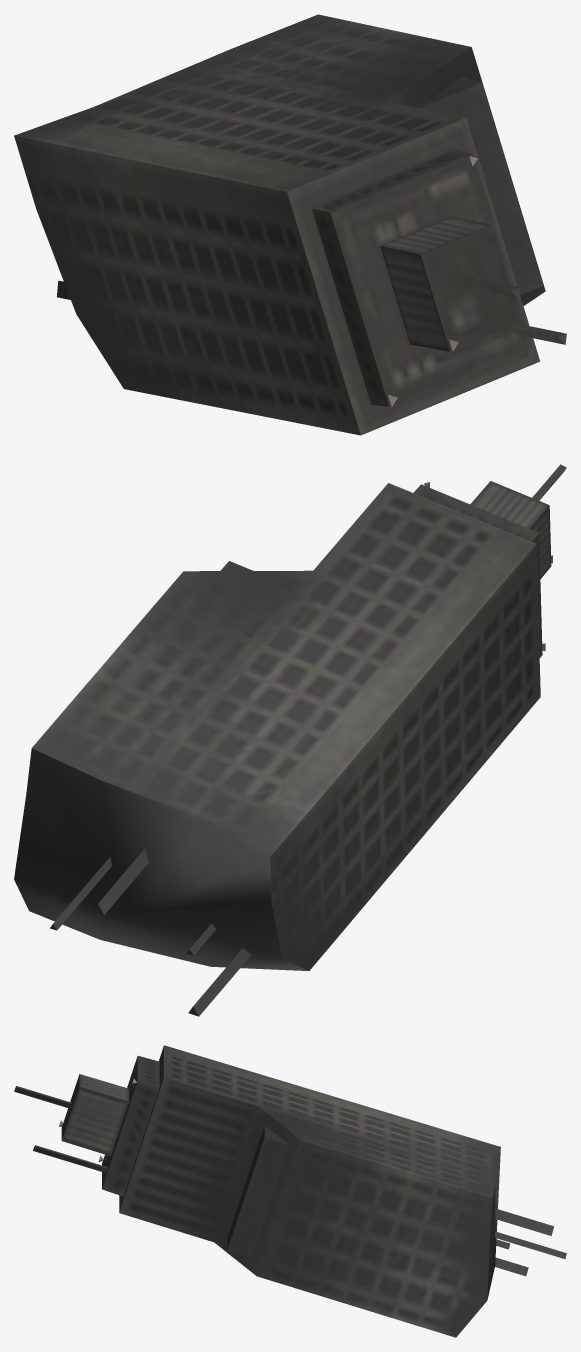
The model's file is skyBuildingAAB_pos_grp (18).fbx.
The picture shows the model from 3 angles, top to bottom: view 1: azimuth 30°, elevation 25°; view 2: azimuth 150°, elevation 25°; view 3: azimuth 270°, elevation 25°; orthographic projection. The views are drawn at different scales.
Parts seen in each view (by area): view 1: skyBuildingAAB_geo; view 2: skyBuildingAAB_geo; view 3: skyBuildingAAB_geo.
Boxes of the visible parts, x1=… form: skyBuildingAAB_geo: x1=14, y1=14, x2=566, y2=435; skyBuildingAAB_geo: x1=14, y1=464, x2=566, y2=1016; skyBuildingAAB_geo: x1=14, y1=1045, x2=566, y2=1337.
Bounding box in the file's own units: 3.67 × 3.95 × 8.71.
